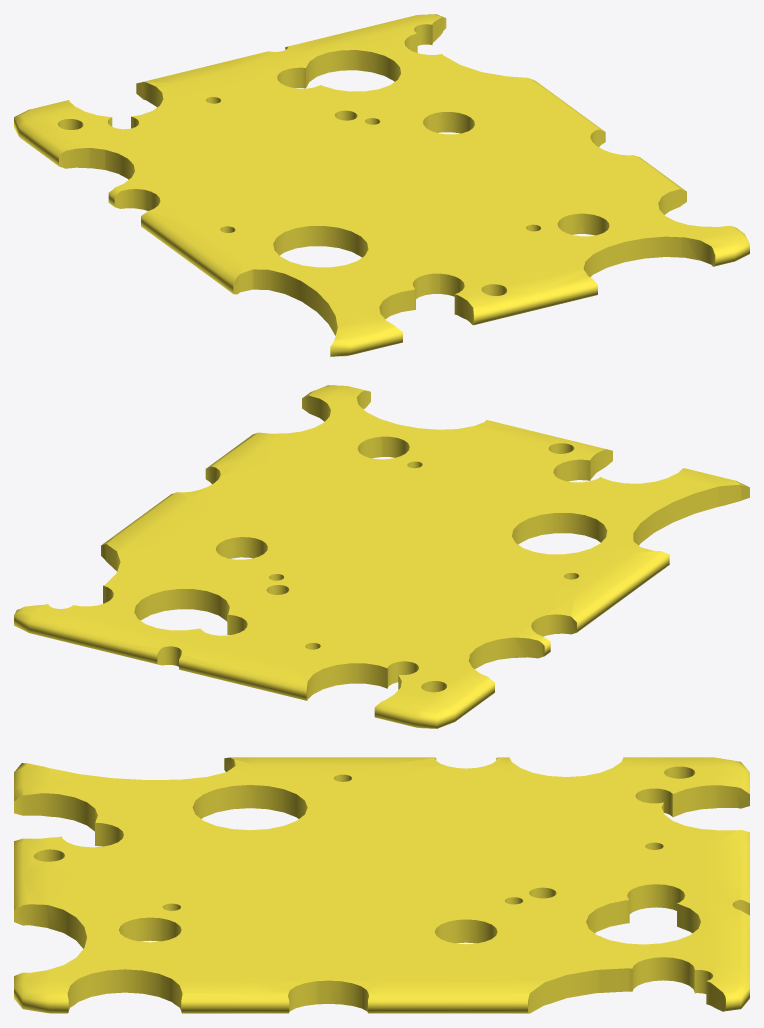
Rendered from cheese_uni.fbx.
3 renders of one model, top to bottom at view 1: azimuth 30°, elevation 25°; view 2: azimuth 150°, elevation 25°; view 3: azimuth 270°, elevation 25°, orthographic. The views are drawn at different scales.
Parts seen in each view (by area): view 1: yellow_cheese; view 2: yellow_cheese; view 3: yellow_cheese.
Part boxes in pixels (box(x1,y1,x2,y2)): yellow_cheese: box(14, 14, 749, 356); yellow_cheese: box(14, 385, 749, 728); yellow_cheese: box(14, 757, 749, 1013).
Bounding box in the file's own units: 5.51 × 0.2457 × 7.06.
